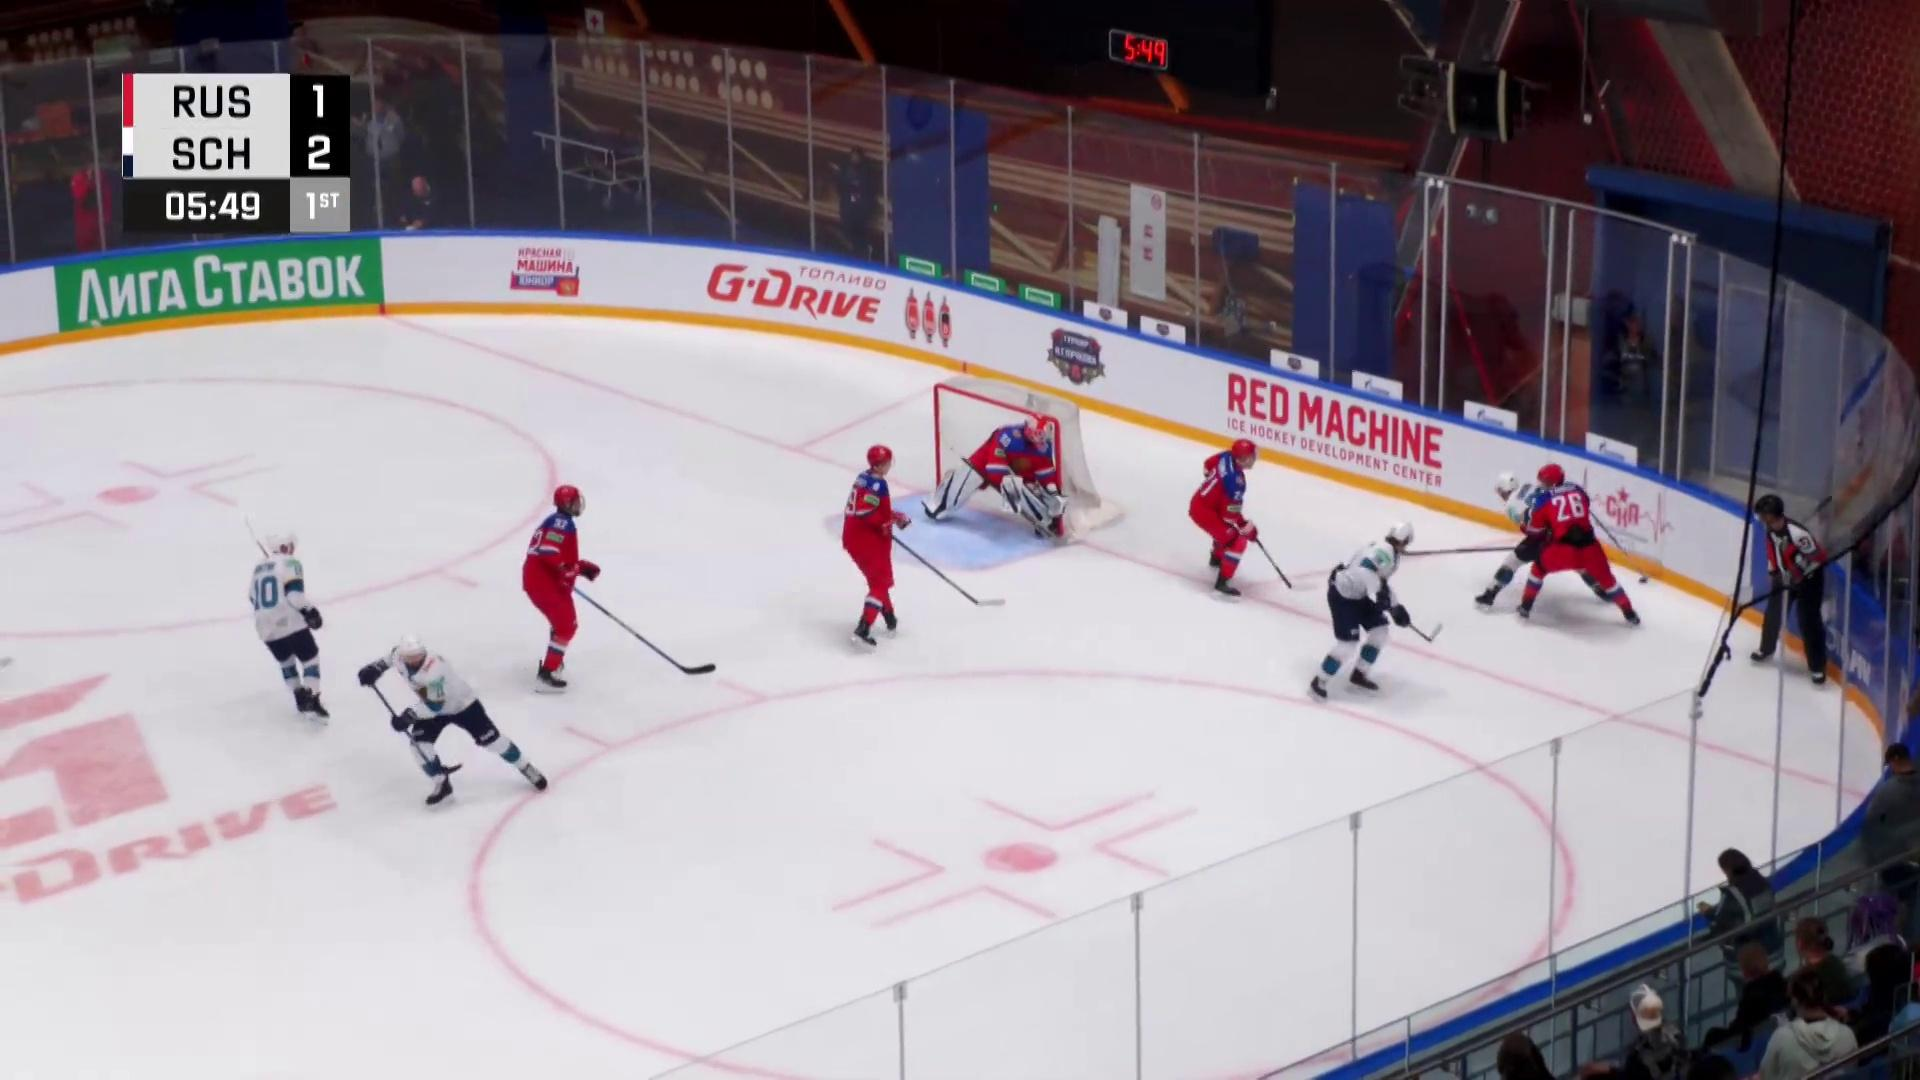ball: (1639, 576, 1650, 584)
